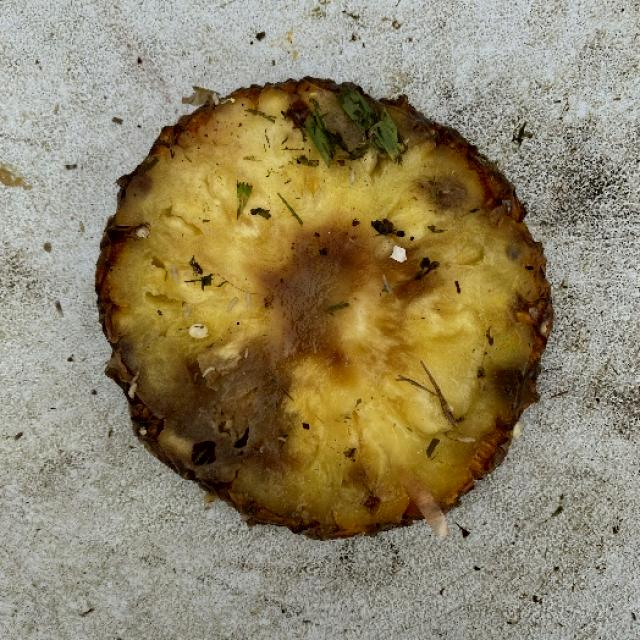organic: (86, 76, 554, 545)
